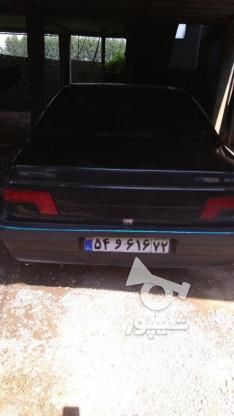car: (82, 235, 173, 255)
